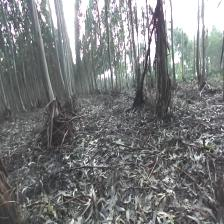trunk: (30, 6, 55, 108), (155, 7, 168, 96)
